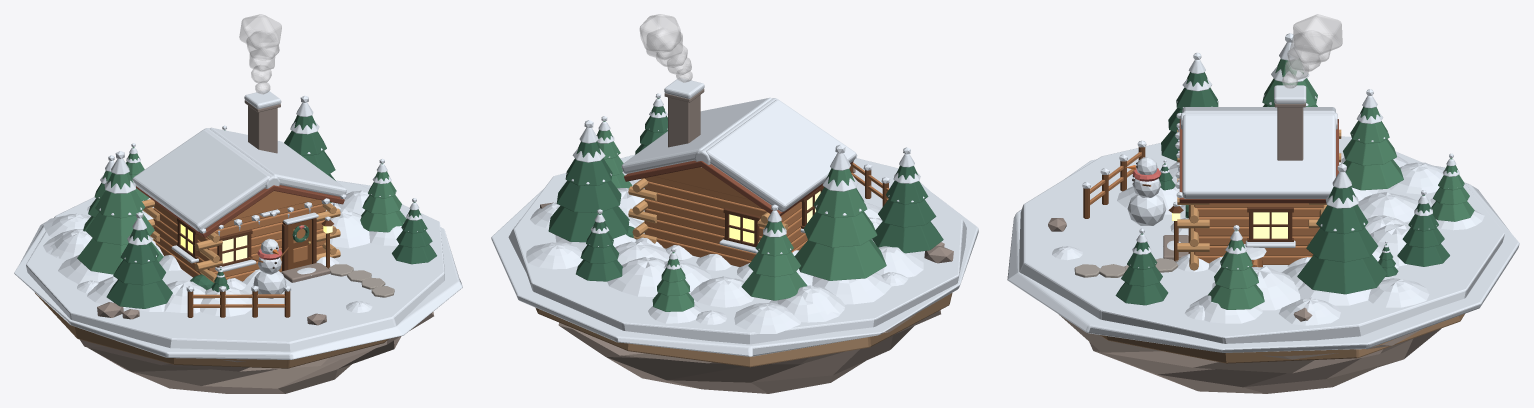
The model's file is winter_cabin.glb.
The picture shows the model from 3 angles, left to right: view 1: azimuth 30°, elevation 25°; view 2: azimuth 150°, elevation 25°; view 3: azimuth 270°, elevation 25°; orthographic projection. The views are drawn at different scales.
Parts seen in each view (by area): view 1: GroundSnow, RoofSnow-1, RockBody, SnowLip, RoofSnow1, Earth, Pine1_0, Pine0_1, Pine0_0, Smoke4, Chimney, Drift10 (+35 smaller); view 2: GroundSnow, RoofSnow-1, RockBody, SnowLip, Earth, RoofSnow1, Pine0_0, Pine0_1, Pine3_0, Pine3_1, Drift18, Pine1_0 (+41 smaller); view 3: GroundSnow, RoofSnow1, SnowLip, RockBody, Earth, Pine3_0, Pine3_1, Smoke4, Chimney, Drift10, Bank1, Pine2_0 (+37 smaller).
Part boxes in pixels (left/top/right/bottom): GroundSnow: left=26, top=180, right=444, bottom=351; RoofSnow-1: left=132, top=129, right=269, bottom=231; RockBody: left=80, top=311, right=433, bottom=393; SnowLip: left=14, top=181, right=462, bottom=359; RoofSnow1: left=209, top=127, right=346, bottom=196; Earth: left=35, top=293, right=388, bottom=368; Pine1_0: left=106, top=279, right=172, bottom=308; Pine0_1: left=86, top=212, right=154, bottom=245; Pine0_0: left=77, top=238, right=163, bottom=274; Smoke4: left=239, top=14, right=281, bottom=49; Chimney: left=248, top=105, right=277, bottom=153; Drift10: left=330, top=208, right=369, bottom=248; GroundSnow: left=508, top=154, right=966, bottom=344; RoofSnow-1: left=706, top=99, right=856, bottom=211; RockBody: left=558, top=310, right=940, bottom=393; SnowLip: left=491, top=189, right=978, bottom=356; Earth: left=535, top=293, right=952, bottom=367; RoofSnow1: left=621, top=97, right=771, bottom=173; Pine0_0: left=794, top=239, right=886, bottom=280; Pine0_1: left=803, top=211, right=877, bottom=247; Pine3_0: left=548, top=205, right=629, bottom=242; Pine3_1: left=556, top=180, right=621, bottom=212; Drift18: left=607, top=257, right=665, bottom=296; Pine1_0: left=872, top=221, right=943, bottom=253; GroundSnow: left=1019, top=136, right=1504, bottom=343; RoofSnow1: left=1182, top=114, right=1335, bottom=198; SnowLip: left=1007, top=159, right=1519, bottom=352; RockBody: left=1059, top=315, right=1441, bottom=393; Earth: left=1100, top=314, right=1464, bottom=363; Pine3_0: left=1297, top=255, right=1387, bottom=294; Pine3_1: left=1306, top=227, right=1378, bottom=262; Smoke4: left=1293, top=14, right=1342, bottom=55; Chimney: left=1277, top=107, right=1303, bottom=160; Drift10: left=1212, top=266, right=1300, bottom=310; Bank1: left=1368, top=278, right=1429, bottom=307; Pine2_0: left=1343, top=159, right=1403, bottom=190.
Bounding box in the file's own units: 15.42 × 13.48 × 15.73.
